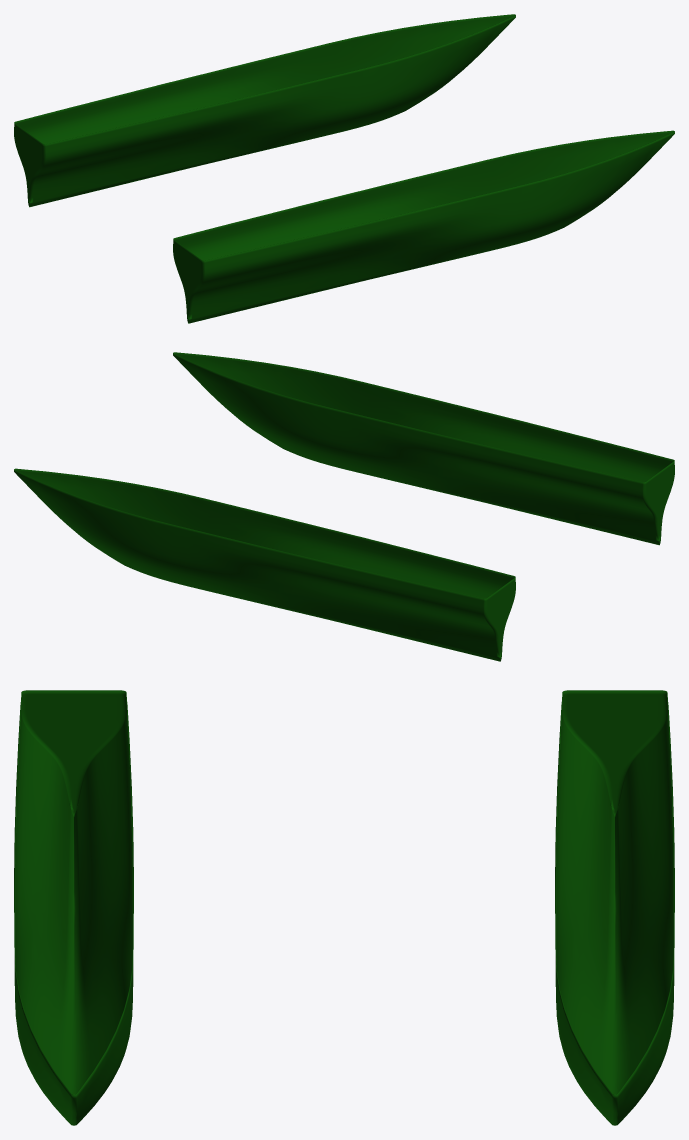
3 renders of one model, top to bottom at view 1: azimuth 30°, elevation 25°; view 2: azimuth 150°, elevation 25°; view 3: azimuth 270°, elevation 25°, orthographic. The views are drawn at different scales.
Parts seen in each view (by area): view 1: base_link.003; view 2: base_link.003; view 3: base_link.003.
Boxes of the visible parts, x1,y1,x2,y2 form: base_link.003: (14,14,674,323); base_link.003: (14,352,674,661); base_link.003: (14,690,674,1125).
Bounding box in the file's own units: 2.3 × 1.59 × 0.334.
1 material, 1 textured.
